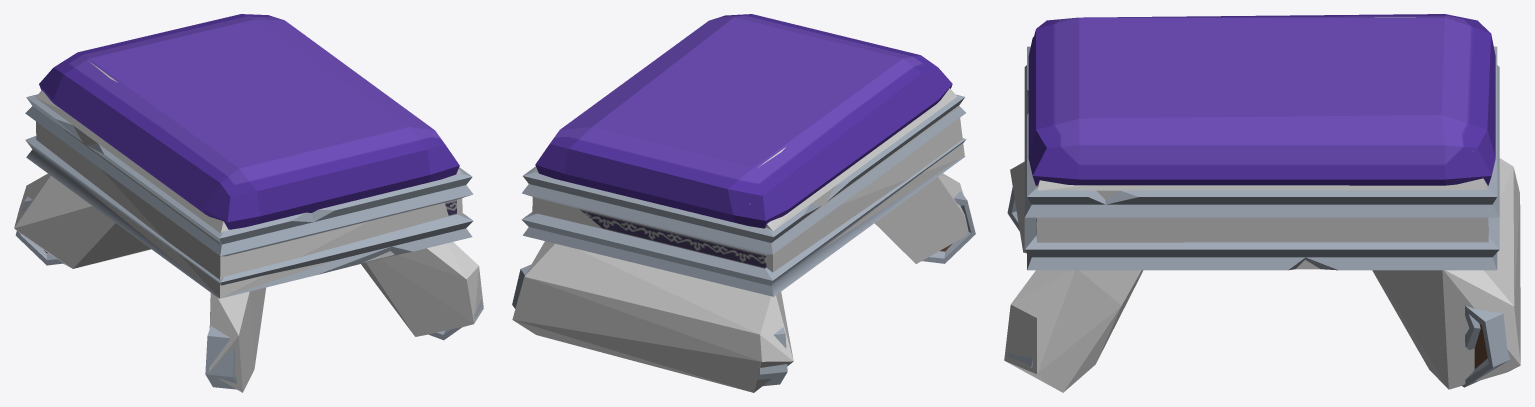
The model's file is SM_Prop_Stool_02.fbx.
3 views of the same model, side by side, from view 1: azimuth 30°, elevation 25°; view 2: azimuth 150°, elevation 25°; view 3: azimuth 270°, elevation 25° (orthographic). The views are drawn at different scales.
Visible parts, largest first — view 1: SM_Prop_Stool_02, SM_Prop_Stool_02_ConvexHulls; view 2: SM_Prop_Stool_02, SM_Prop_Stool_02_ConvexHulls; view 3: SM_Prop_Stool_02, SM_Prop_Stool_02_ConvexHulls.
Part boxes in pixels (left/top/right/bottom): SM_Prop_Stool_02: left=15, top=14, right=482, bottom=389; SM_Prop_Stool_02_ConvexHulls: left=14, top=61, right=483, bottom=392; SM_Prop_Stool_02: left=512, top=14, right=975, bottom=386; SM_Prop_Stool_02_ConvexHulls: left=512, top=88, right=968, bottom=392; SM_Prop_Stool_02: left=1007, top=14, right=1510, bottom=387; SM_Prop_Stool_02_ConvexHulls: left=1004, top=17, right=1520, bottom=392.
Bounding box in the file's own units: 66.01 × 85.29 × 45.97.
Materials: 2 (1 with a texture image).
